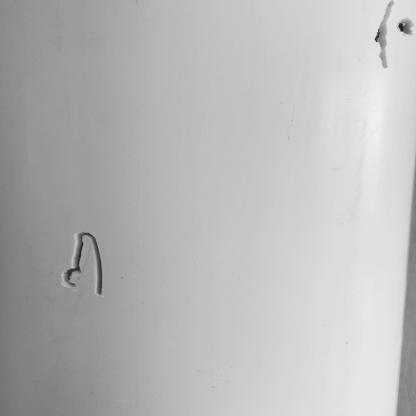fengxi: (54, 231, 115, 297)
kongdong: (374, 1, 390, 71), (396, 12, 416, 41)
